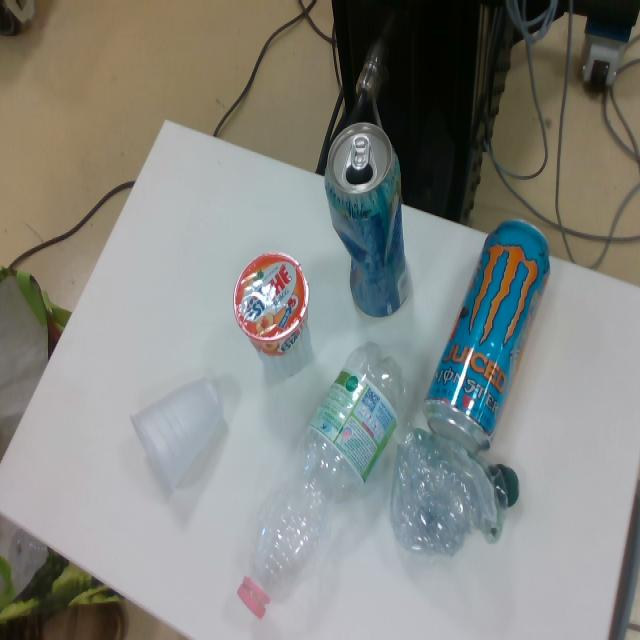aluminum: (423, 216, 554, 457), (325, 122, 412, 321)
plastic: (238, 342, 417, 631), (392, 428, 522, 560), (130, 376, 225, 493), (233, 248, 314, 378)
